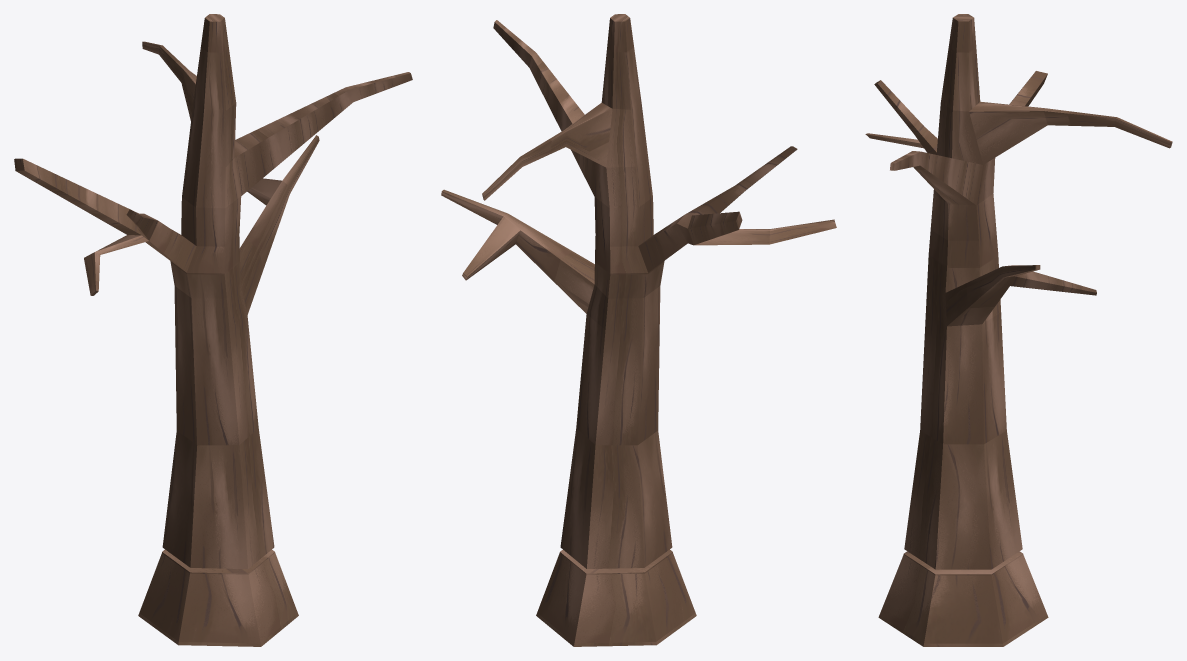
File: treeCut.fbx
3 views of the same model, side by side, from view 1: azimuth 30°, elevation 25°; view 2: azimuth 150°, elevation 25°; view 3: azimuth 270°, elevation 25° (orthographic).
Parts seen in each view (by area): view 1: MainTree, TrunkofTree; view 2: MainTree, TrunkofTree; view 3: MainTree, TrunkofTree.
Part boxes in pixels (x1,y1,x2,y2): MainTree: (14,14,412,568); TrunkofTree: (138,549,298,646); MainTree: (441,14,836,568); TrunkofTree: (536,549,696,646); MainTree: (865,14,1172,569); TrunkofTree: (878,551,1048,646).
Bounding box in the file's own units: 563 × 970 × 452.
